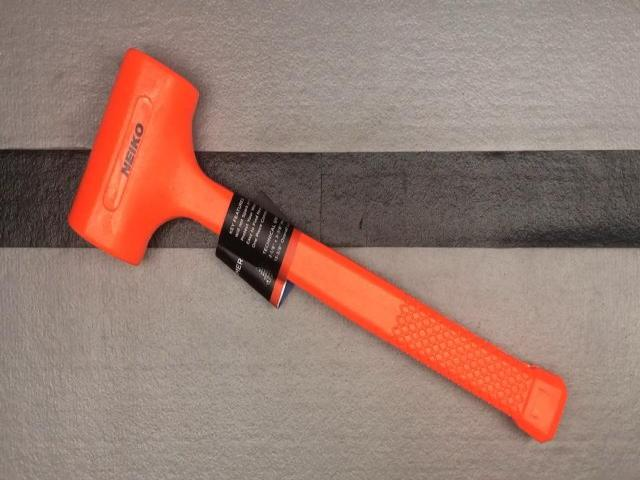hammer: (66, 49, 566, 441)
